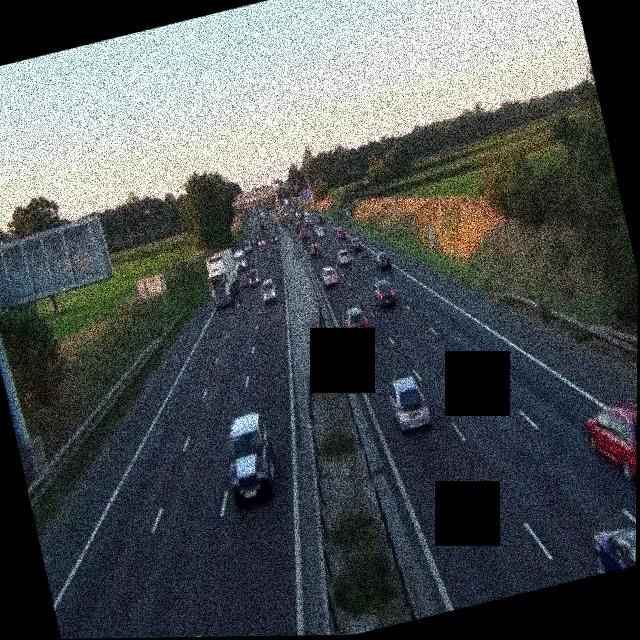car: (215, 409, 284, 508), (583, 395, 637, 490), (590, 510, 636, 573), (385, 371, 431, 433), (342, 305, 371, 341), (370, 277, 398, 309), (257, 276, 278, 303), (320, 263, 339, 287), (374, 251, 394, 272), (244, 267, 260, 287), (336, 246, 352, 265), (348, 234, 363, 252), (309, 242, 324, 260), (334, 224, 347, 240), (298, 226, 309, 240), (316, 213, 327, 227), (269, 231, 278, 242)
truck: (203, 248, 243, 307)
